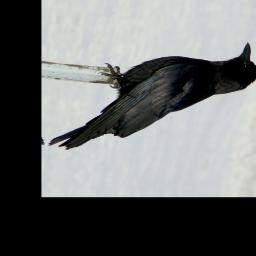Crow: (46, 22, 256, 170)
